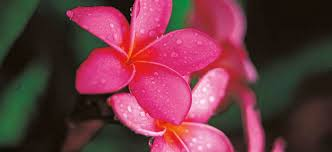frangipani: (66, 1, 221, 123)
